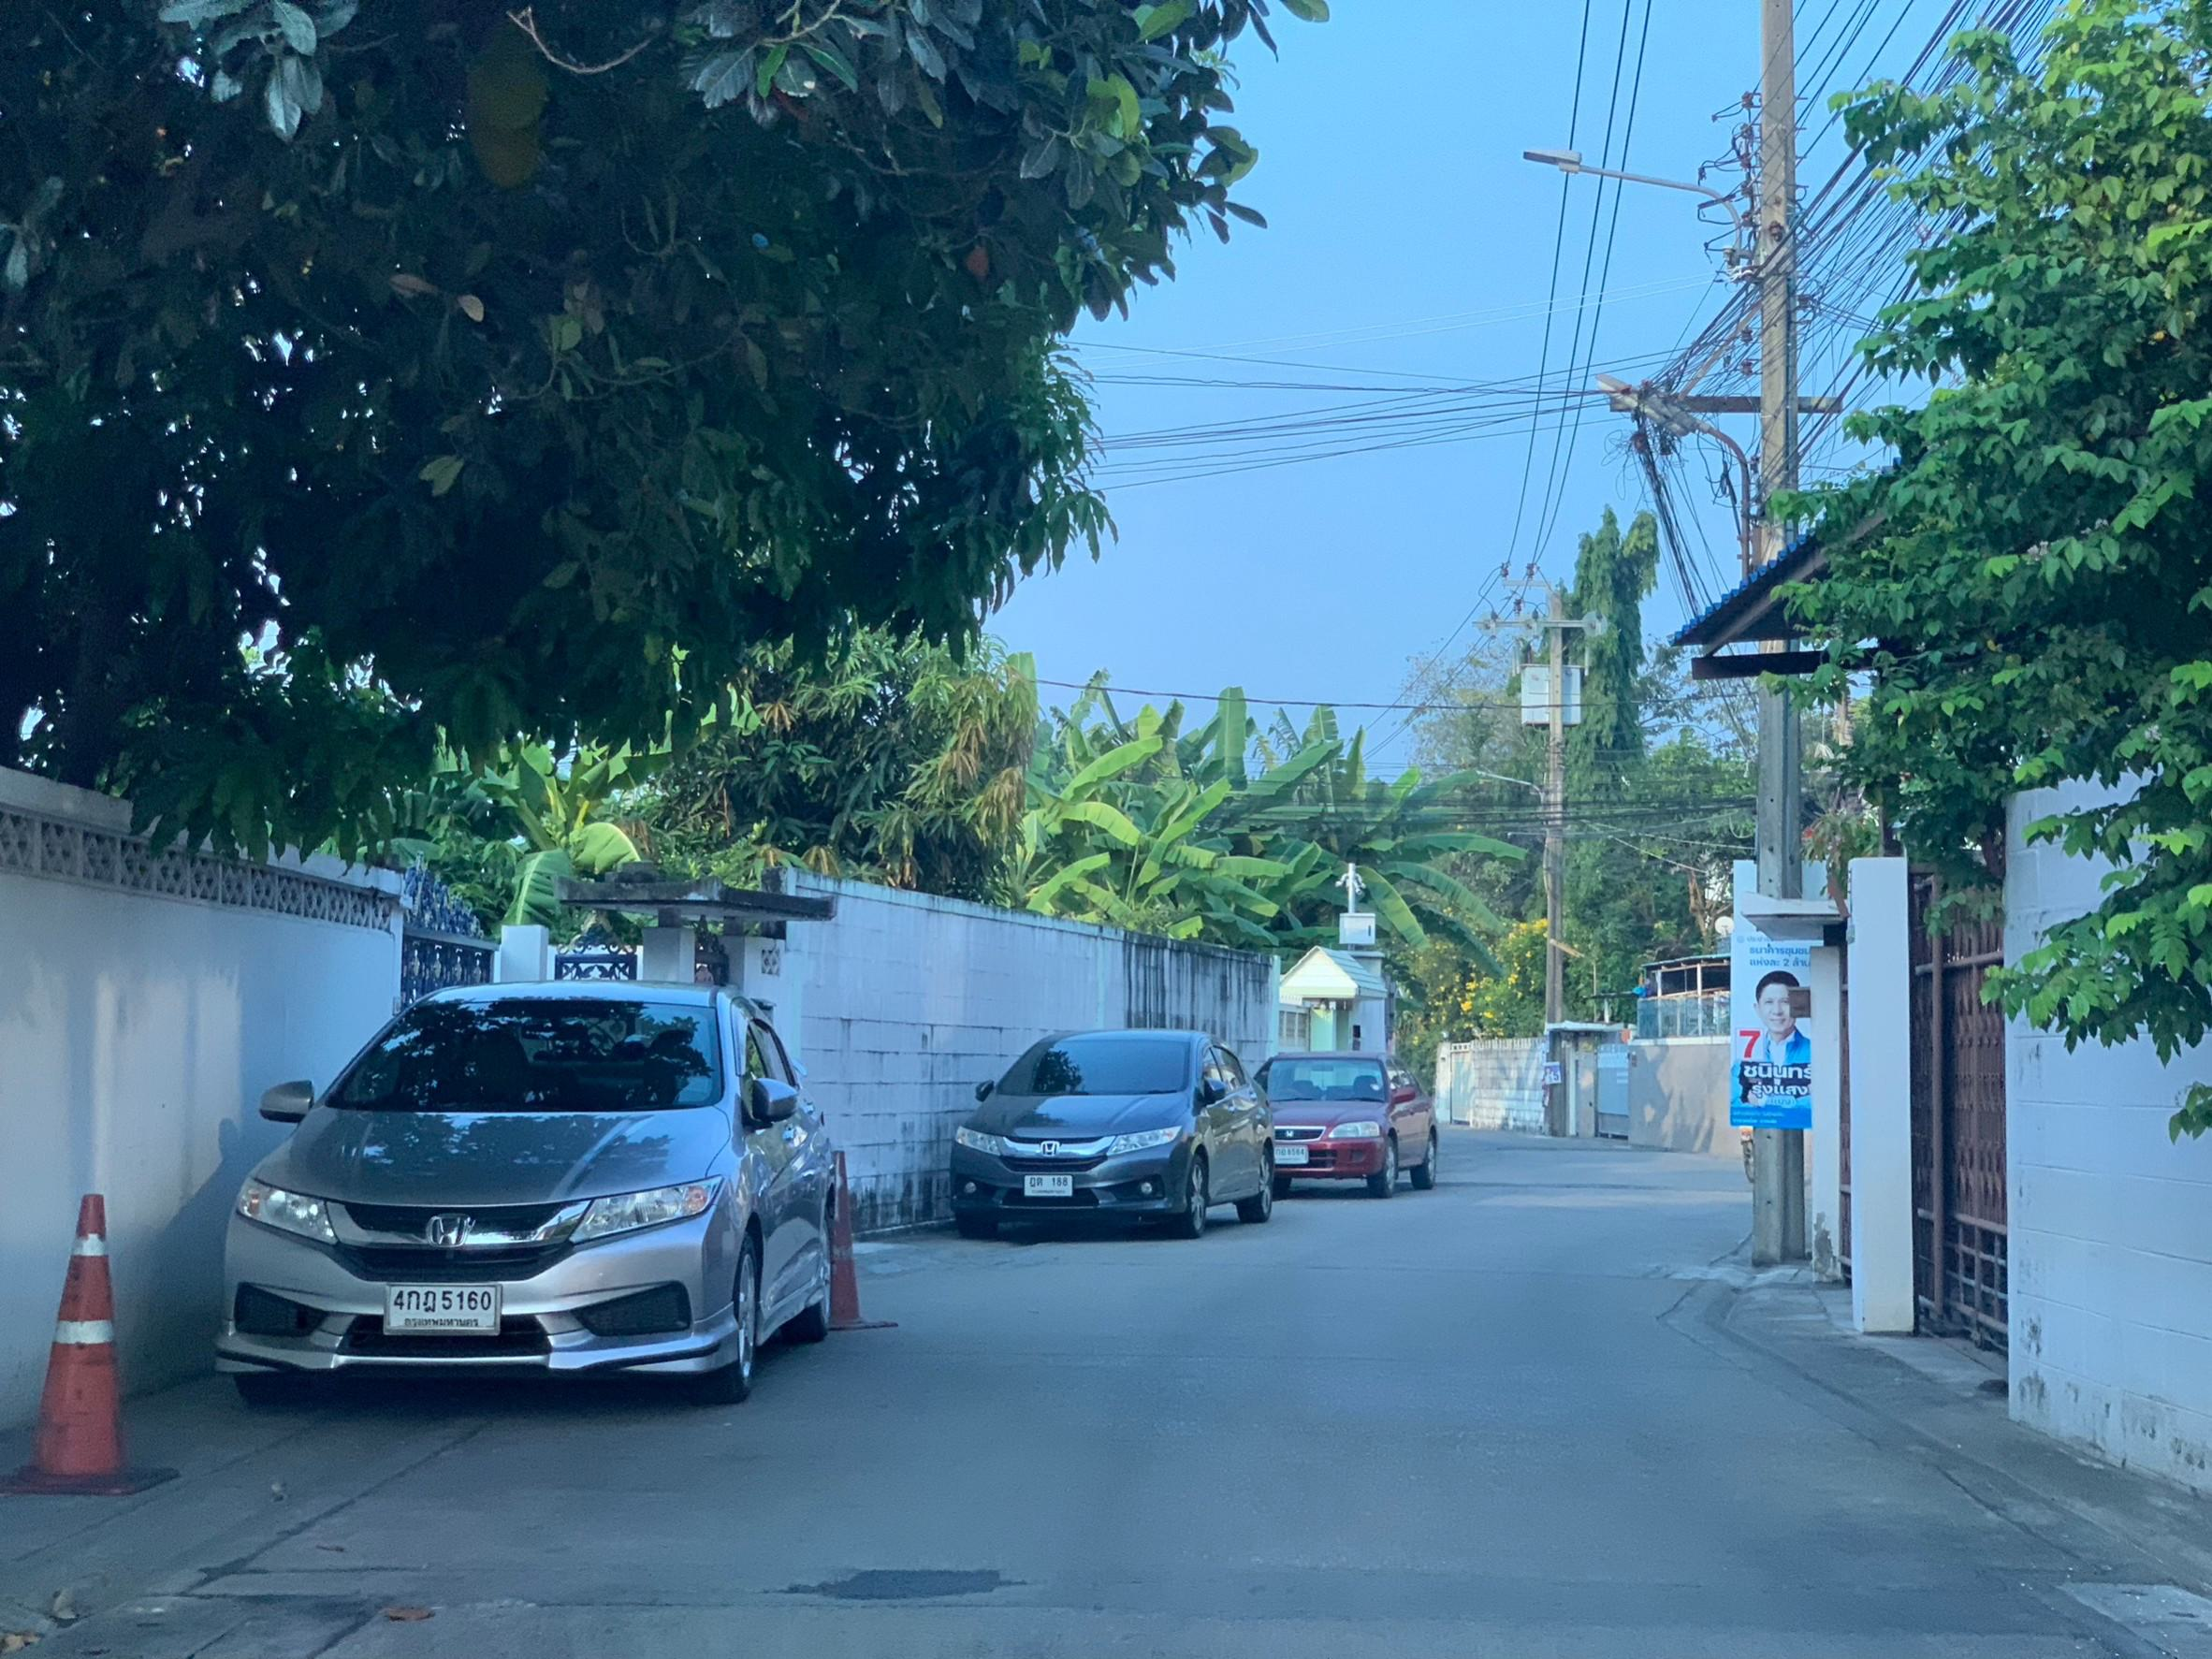Banner: (1726, 913, 1829, 1129)
